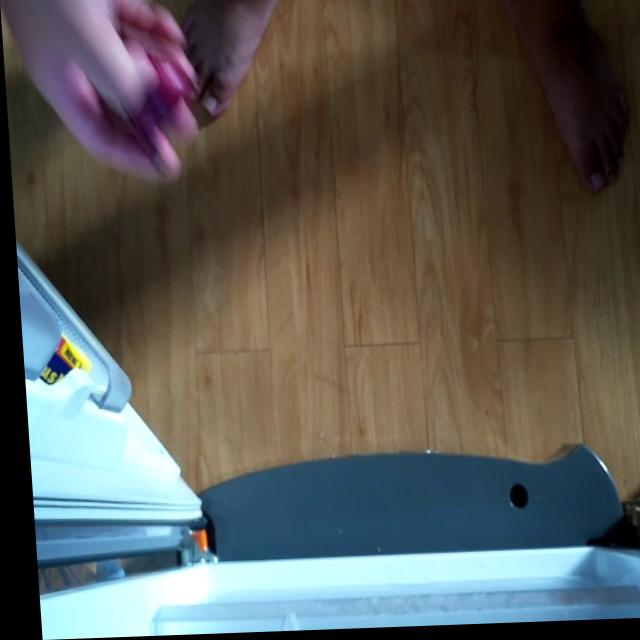onion: (89, 23, 205, 170)
